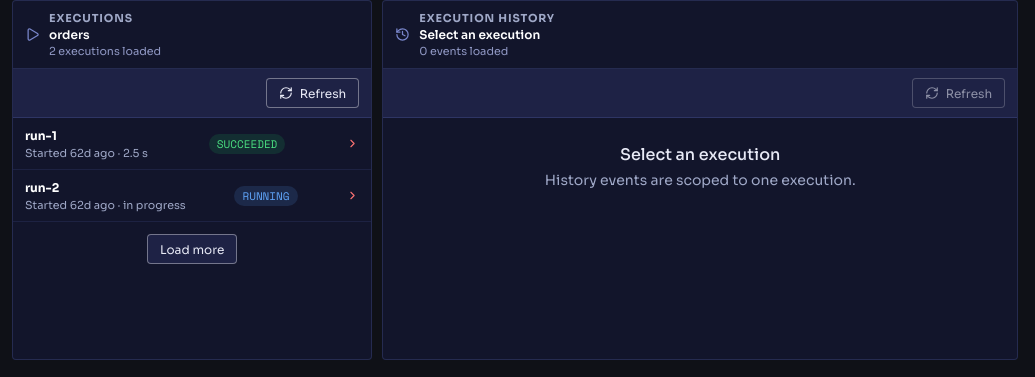
WorkflowExecutionsPanel › surfaces a failed continuation page and retries it
Click the button "Load more" at point(192, 249), box top-left (147, 234), bottom-right (237, 264)
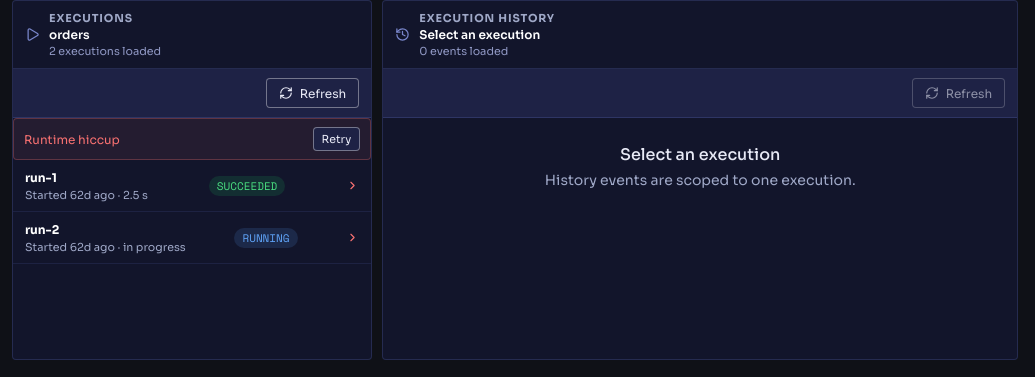
Expected: the text "run-1" is shown, top-left (25, 170), bottom-right (57, 184)
Result: the message shows "Runtime hiccup" at top-left (24, 132), bottom-right (120, 146)
Result: the button "Load more" is gone
Click the button "Retry" at point(336, 139), box top-left (313, 127), bottom-right (360, 151)
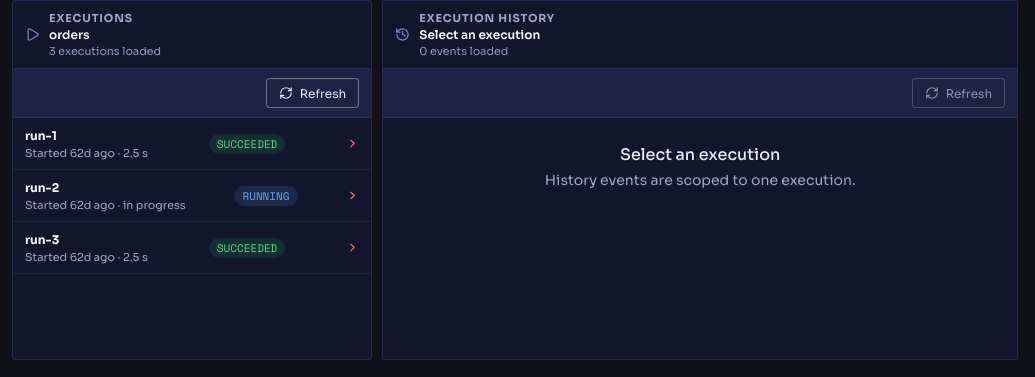
Result: the text "run-3" is shown at top-left (25, 232), bottom-right (59, 246)
Result: the message "Runtime hiccup Retry" is gone
